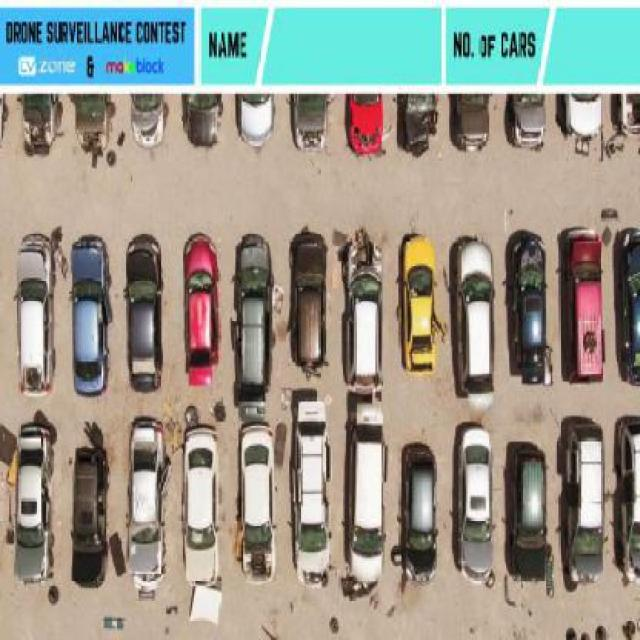car: (288, 391, 330, 588), (344, 400, 387, 590), (452, 234, 498, 409), (125, 411, 169, 593), (66, 234, 113, 400), (558, 224, 607, 381), (506, 228, 554, 385), (234, 234, 276, 413), (10, 420, 54, 588), (10, 233, 54, 400), (121, 231, 166, 390), (235, 420, 280, 578), (283, 227, 330, 378), (180, 420, 222, 586), (343, 236, 384, 398), (456, 422, 496, 583), (566, 416, 604, 583), (512, 438, 556, 582), (399, 440, 441, 587), (182, 229, 224, 375), (68, 445, 108, 591), (399, 236, 438, 379), (616, 410, 640, 591), (616, 226, 640, 383), (397, 94, 442, 160), (343, 91, 388, 155), (286, 92, 329, 151), (454, 96, 496, 156), (18, 91, 58, 153), (182, 92, 226, 147), (506, 94, 549, 149), (232, 94, 276, 146), (129, 92, 170, 147), (558, 92, 604, 140), (72, 94, 108, 154), (615, 92, 640, 136), (0, 95, 10, 151)
